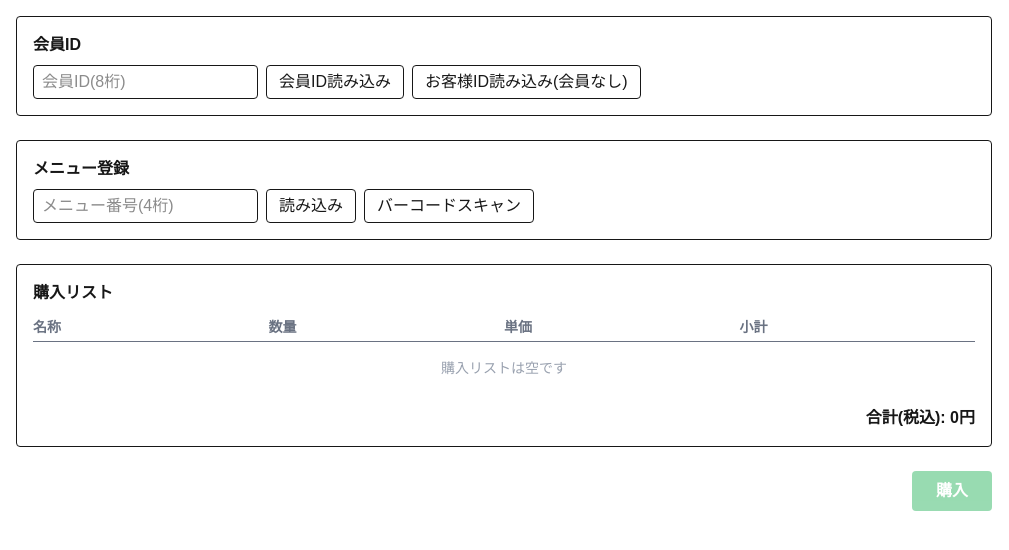
Test case: FE-014: 購入確定APIがエラーを返した場合、エラーポップアップを表示し購入リストのstateを保持する
会員なしで進める
Click the button "お客様ID読み込み(会員なし)" at [526, 82], box [412,65,641,99]
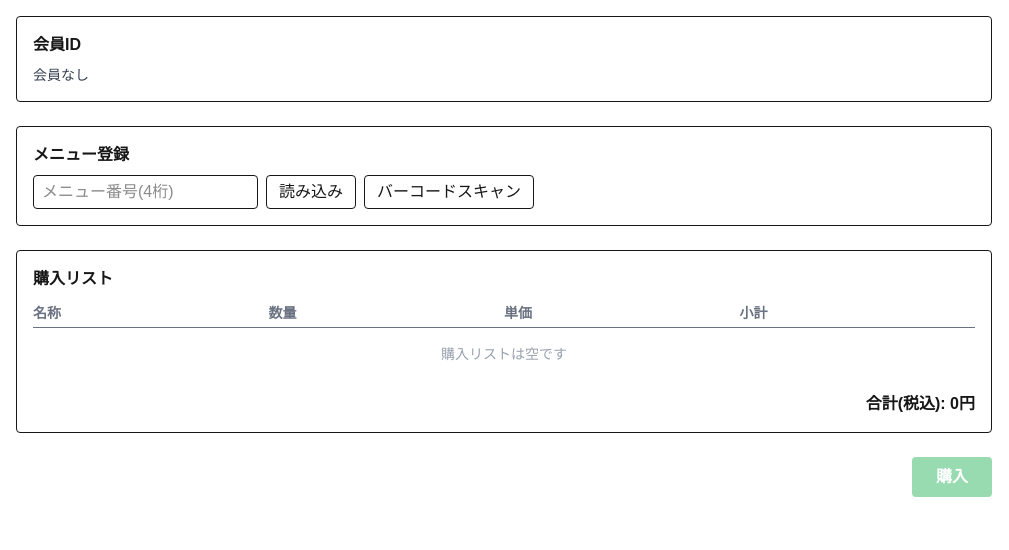
メニューを検索してカートに追加
Type "0001" into the field with placeholder "メニュー番号(4桁)" at [146, 192], box [33,175,258,209]
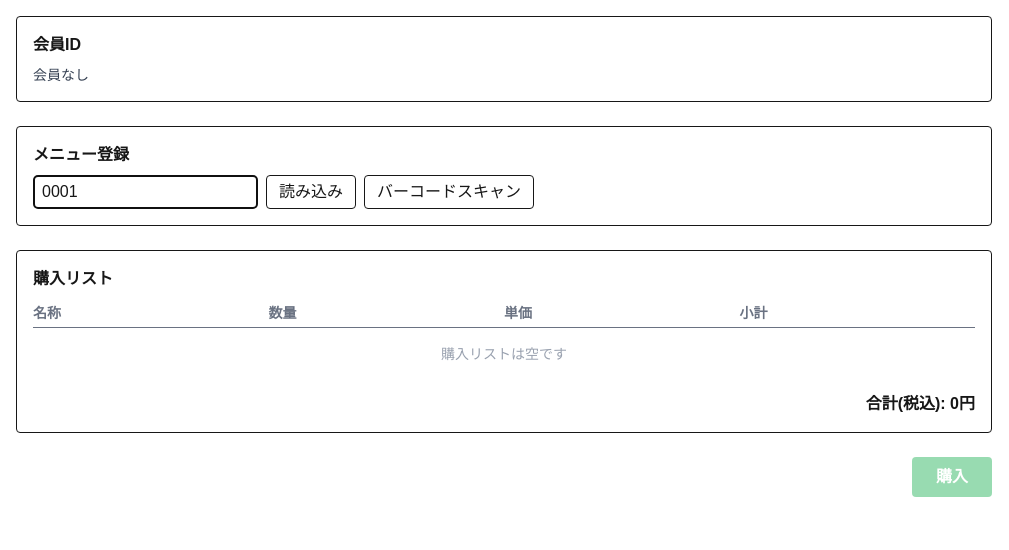
Click the button "読み込み" at [311, 192], box [266,175,356,209]
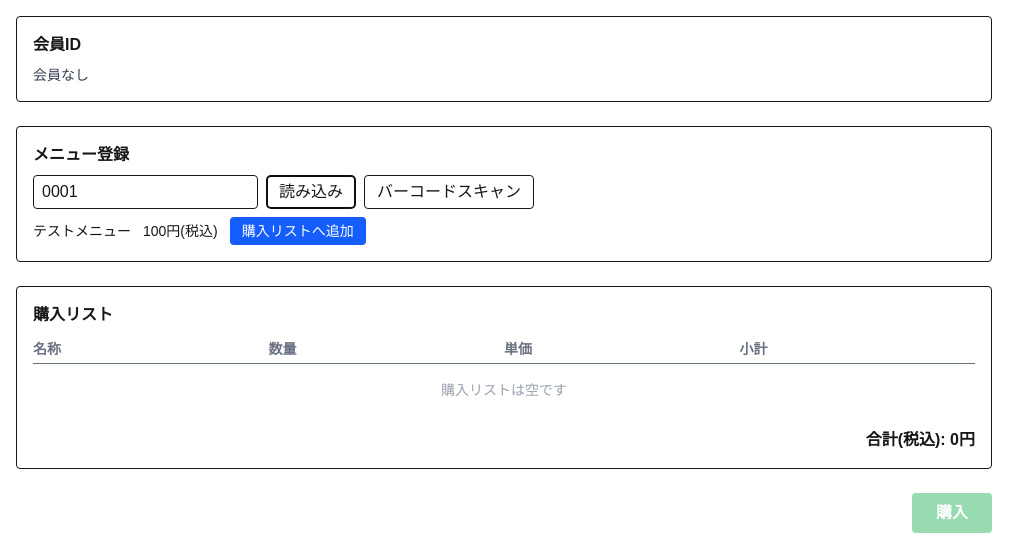
Result: the text "テストメニュー" is shown at [33,221,131,241]
Click the button "購入リストへ追加" at [298, 231], box [230,217,366,245]
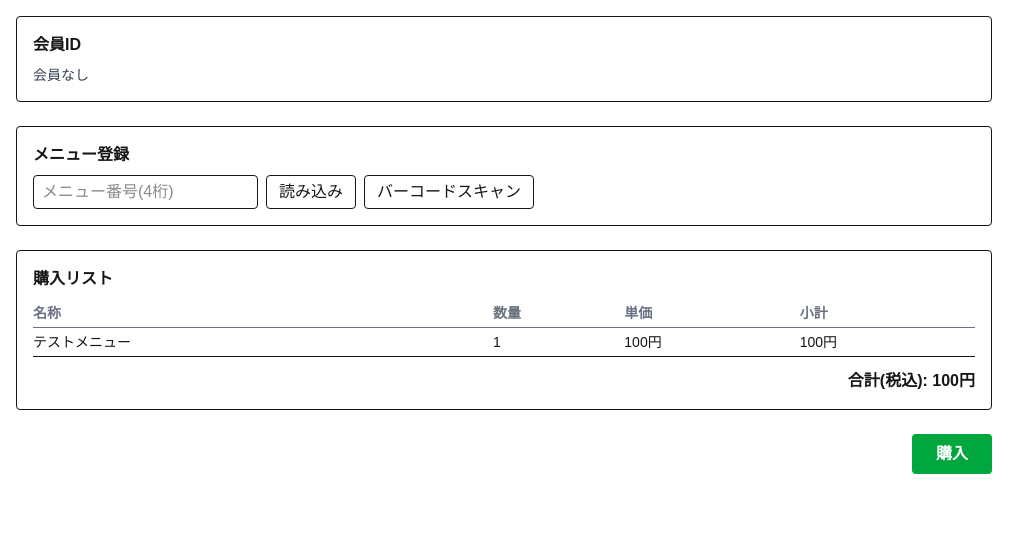
Click the button "購入" at [952, 454], box [912,434,992,474]
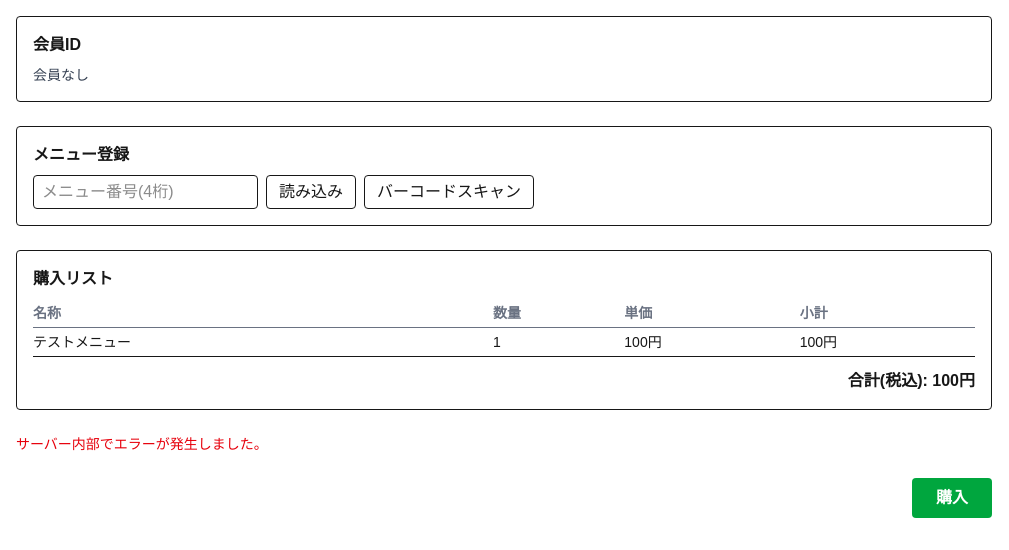
Result: the text "テストメニュー" is shown at [33,328,493,356]
Result: the text "サーバー内部でエラーが発生しました。" is shown at [16,436,268,452]
